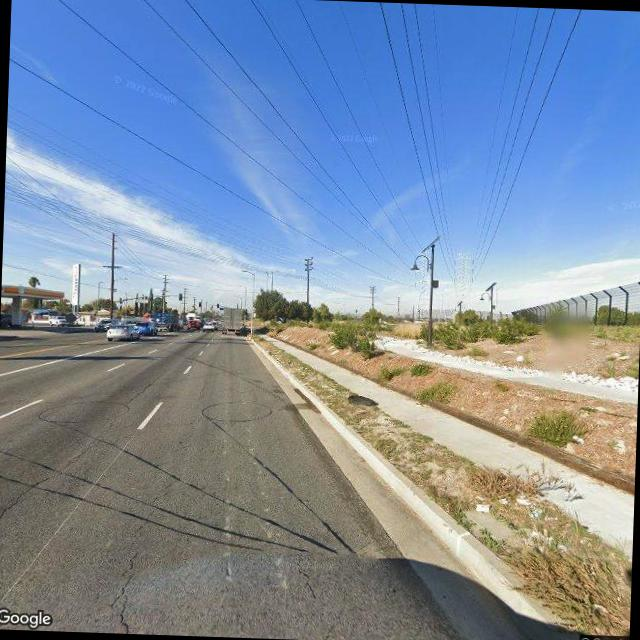pothole: (104, 466, 178, 625), (0, 442, 87, 521)
